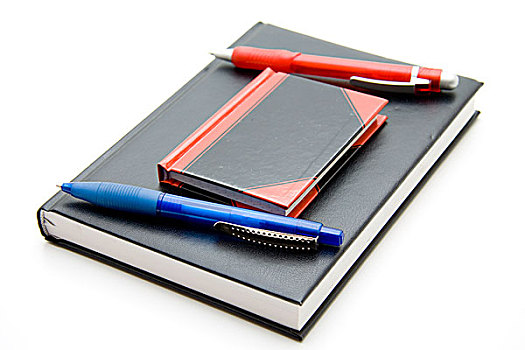book: (155, 63, 392, 219)
